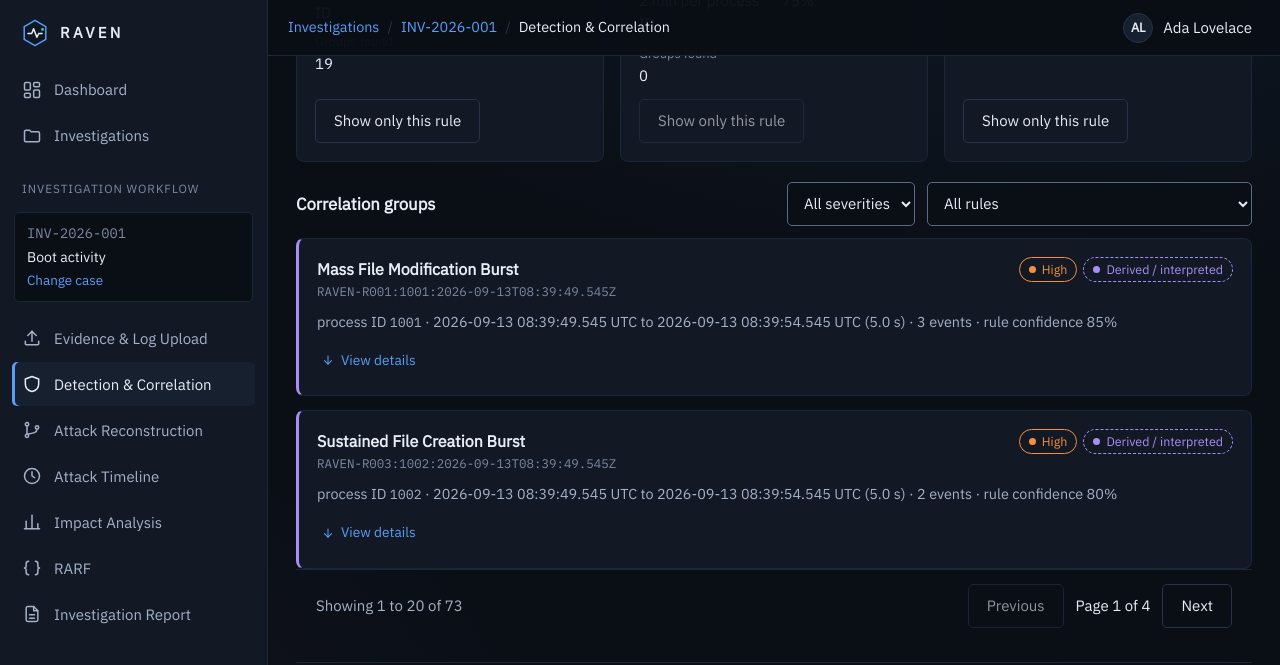
Test: Detection: groups › starts each group collapsed and shows its detail on request
(page scrolled)
Expected: the text "Why this activity is correlated" is not shown
Click the button "View details" below "RAVEN-R001:1001:2026-09-13T08:39:49.545Z" at point(368, 360), box top-left (317, 343), bottom-right (420, 377)
(page scrolled)
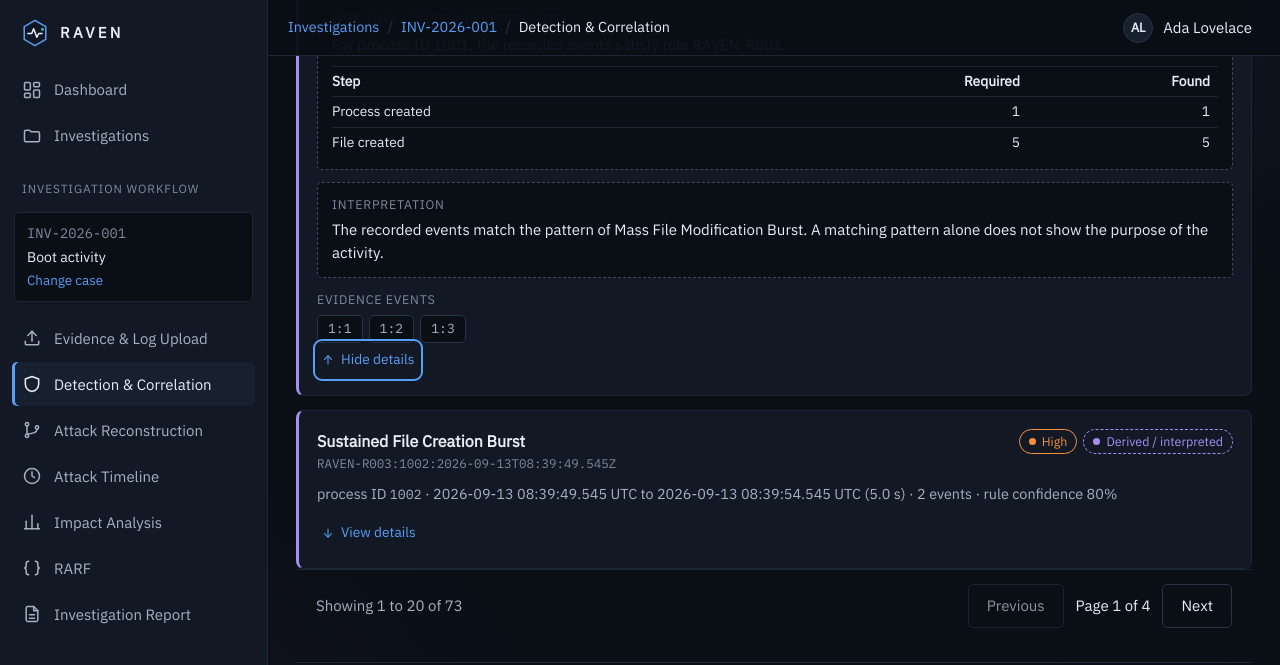
Expected: the text "Why this activity is correlated" is shown, top-left (332, 10), bottom-right (566, 26)
Result: the button "Hide details" is expanded at top-left (317, 343), bottom-right (418, 377)
